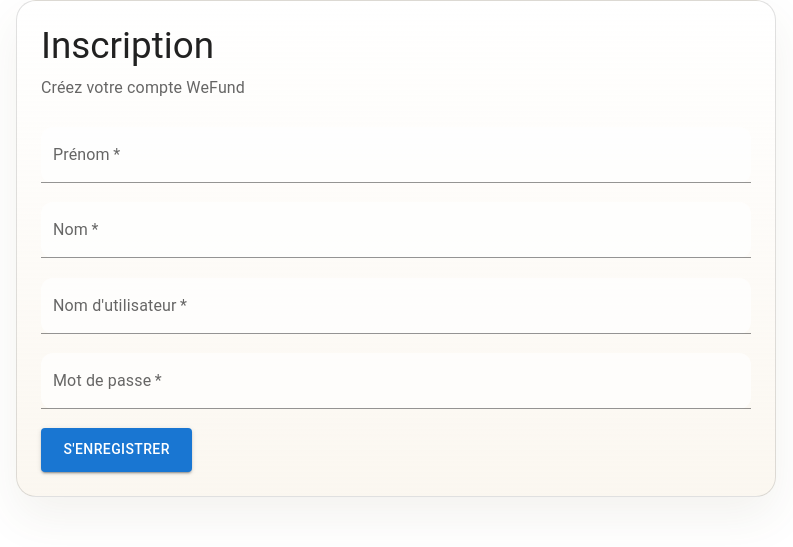
Test: SignupForm › affiche une erreur si le nom d'utilisateur est trop court
Type "alice" into the field labelled "Prénom *". click: {"x": 396, "y": 155}
box: [41,127,751,183]
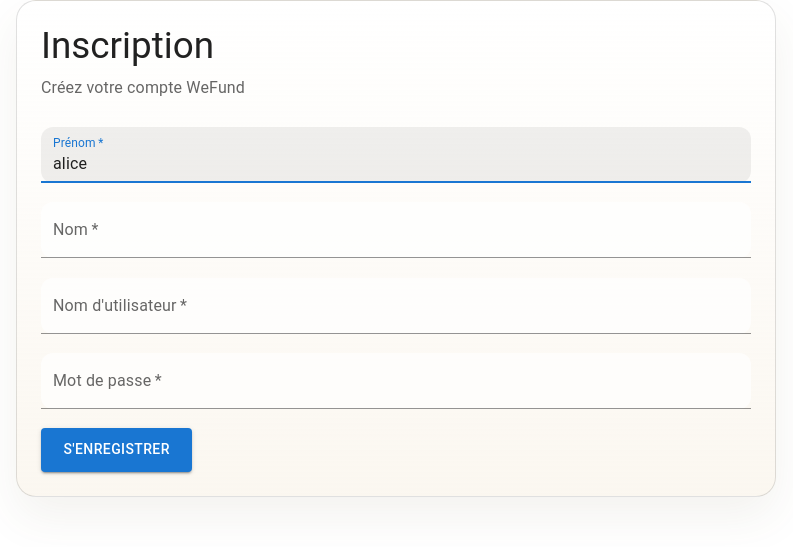
Type "duval" into the field labelled "Nom *". click: {"x": 396, "y": 230}
box: [41,202,751,258]
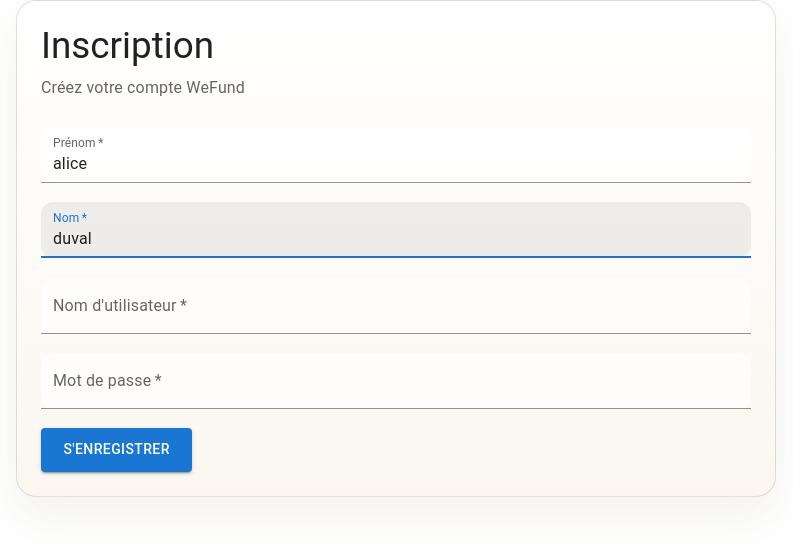
Type "ab" into the field labelled "Nom d'utilisateur *". click: {"x": 396, "y": 306}
box: [41,278,751,334]
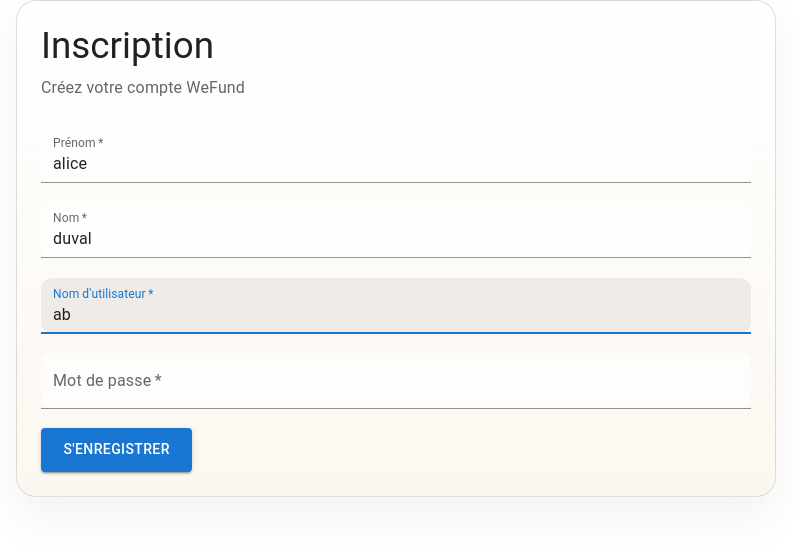
Type "secret" into the password field labelled "Mot de passe *". click: {"x": 396, "y": 381}
box: [41,353,751,409]
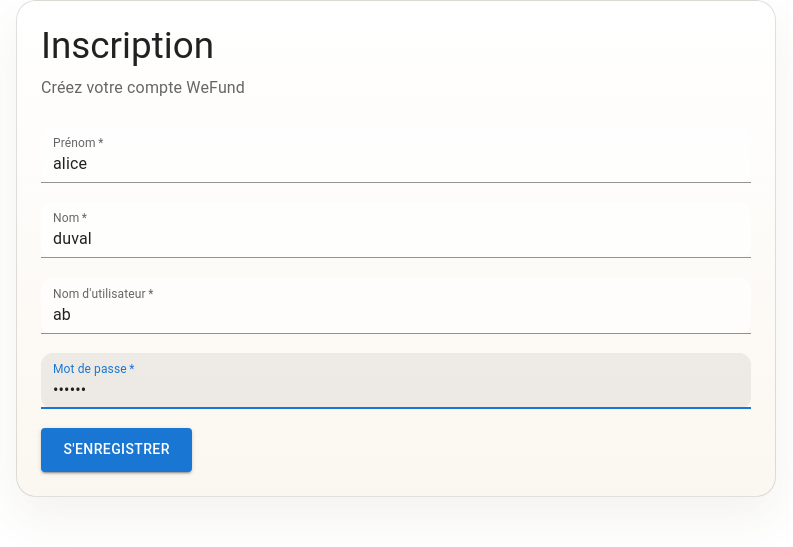
Click the button "S'enregistrer". click: {"x": 117, "y": 450}
box: [41,428,192,472]
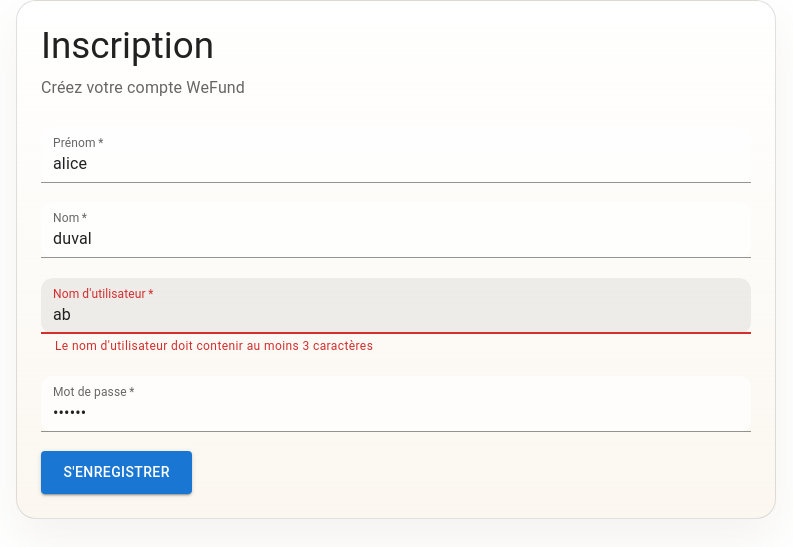
Expected: the text "Le nom d'utilisateur doit contenir au moins 3 caractères" is shown, [55,338,373,352]
